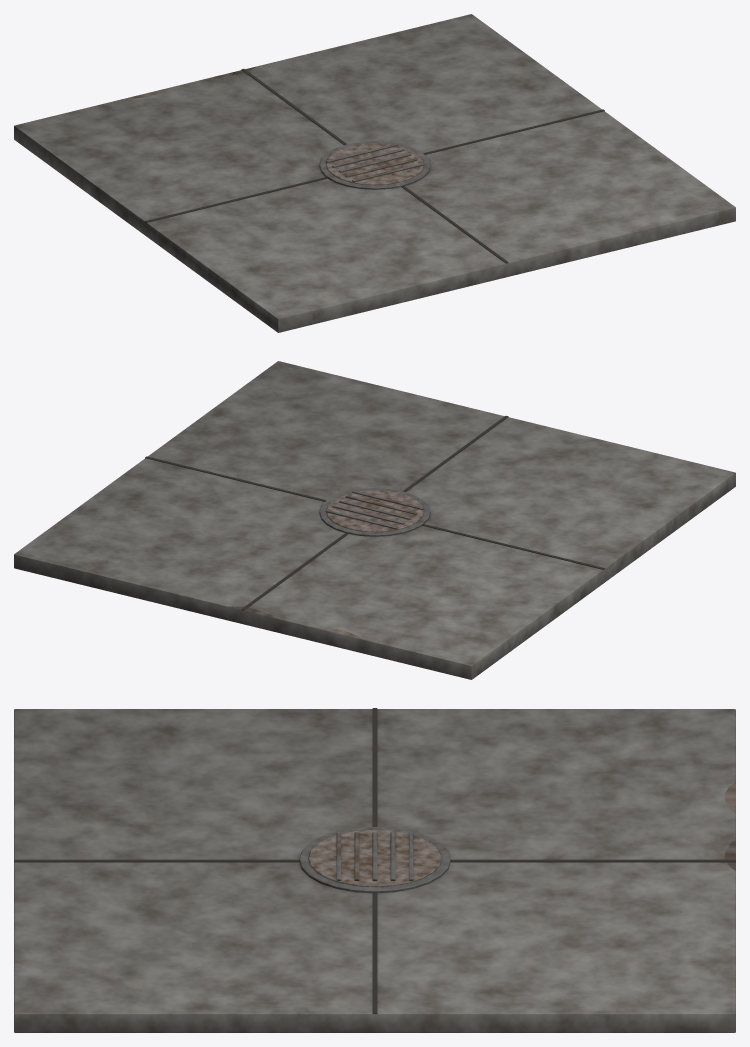
Rendered from g67_pz_floor_hatch.glb.
The picture shows the model from 3 angles, top to bottom: view 1: azimuth 30°, elevation 25°; view 2: azimuth 150°, elevation 25°; view 3: azimuth 270°, elevation 25°; orthographic projection. The views are drawn at different scales.
Parts seen in each view (by area): view 1: g67_pz_floor_hatch, lid; view 2: g67_pz_floor_hatch, lid; view 3: g67_pz_floor_hatch, lid.
Part boxes in pixels (left/top/right/bottom): g67_pz_floor_hatch: left=14, top=14, right=735, bottom=332; lid: left=326, top=143, right=423, bottom=184; g67_pz_floor_hatch: left=14, top=361, right=735, bottom=679; lid: left=326, top=490, right=423, bottom=531; g67_pz_floor_hatch: left=14, top=708, right=735, bottom=1032; lid: left=308, top=829, right=441, bottom=886.
Size of the model in its own units: 4 by 0.154 by 4.
1 material, 1 textured.
